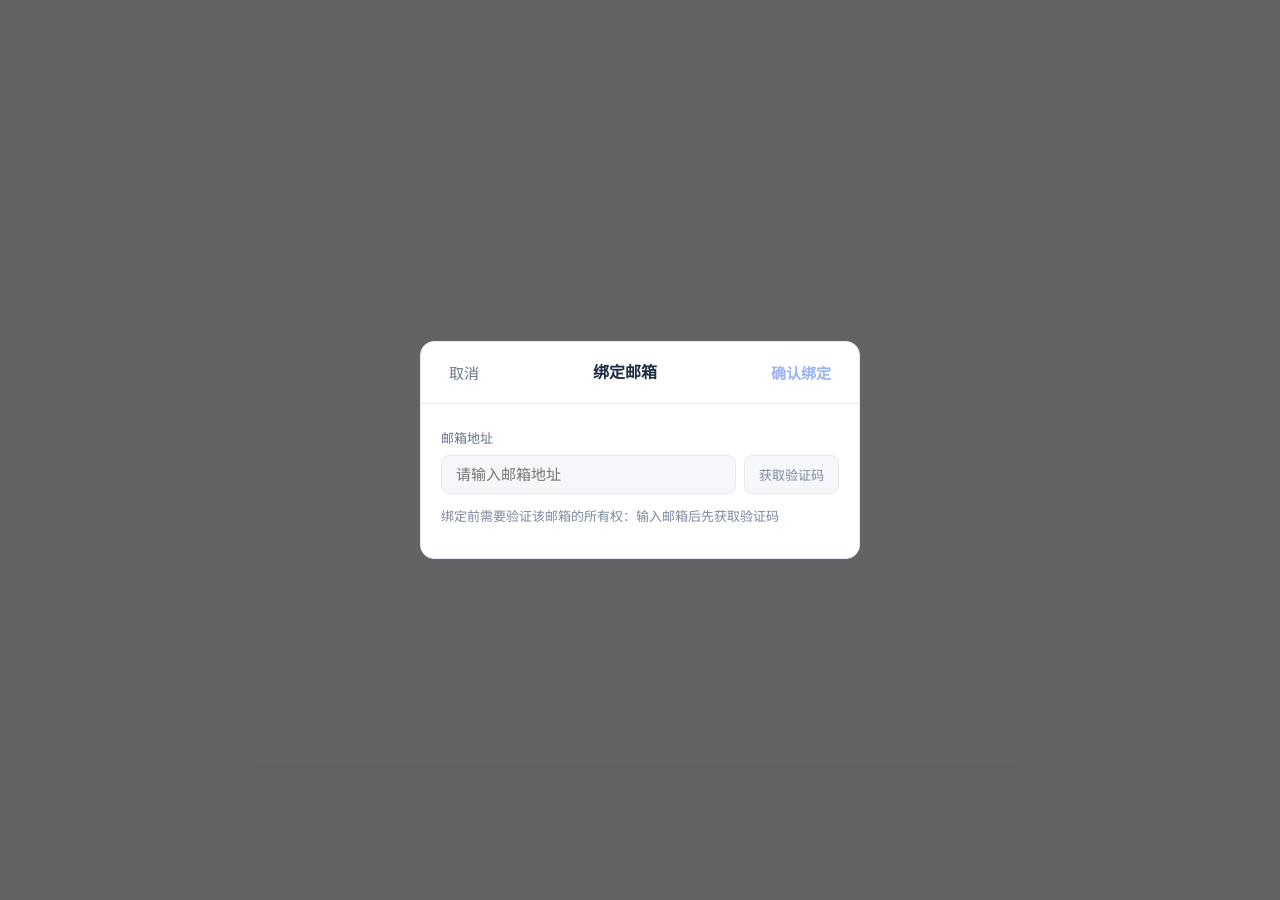
Test: BindEmailModal verified-binding flow › cooldown countdown disables resend and closing clears the timer
The width and height of the screenshot is (1280, 900).
Type "timer@example.test" into the field with placeholder "请输入邮箱地址" at (588, 474), box [441,454,736,494]
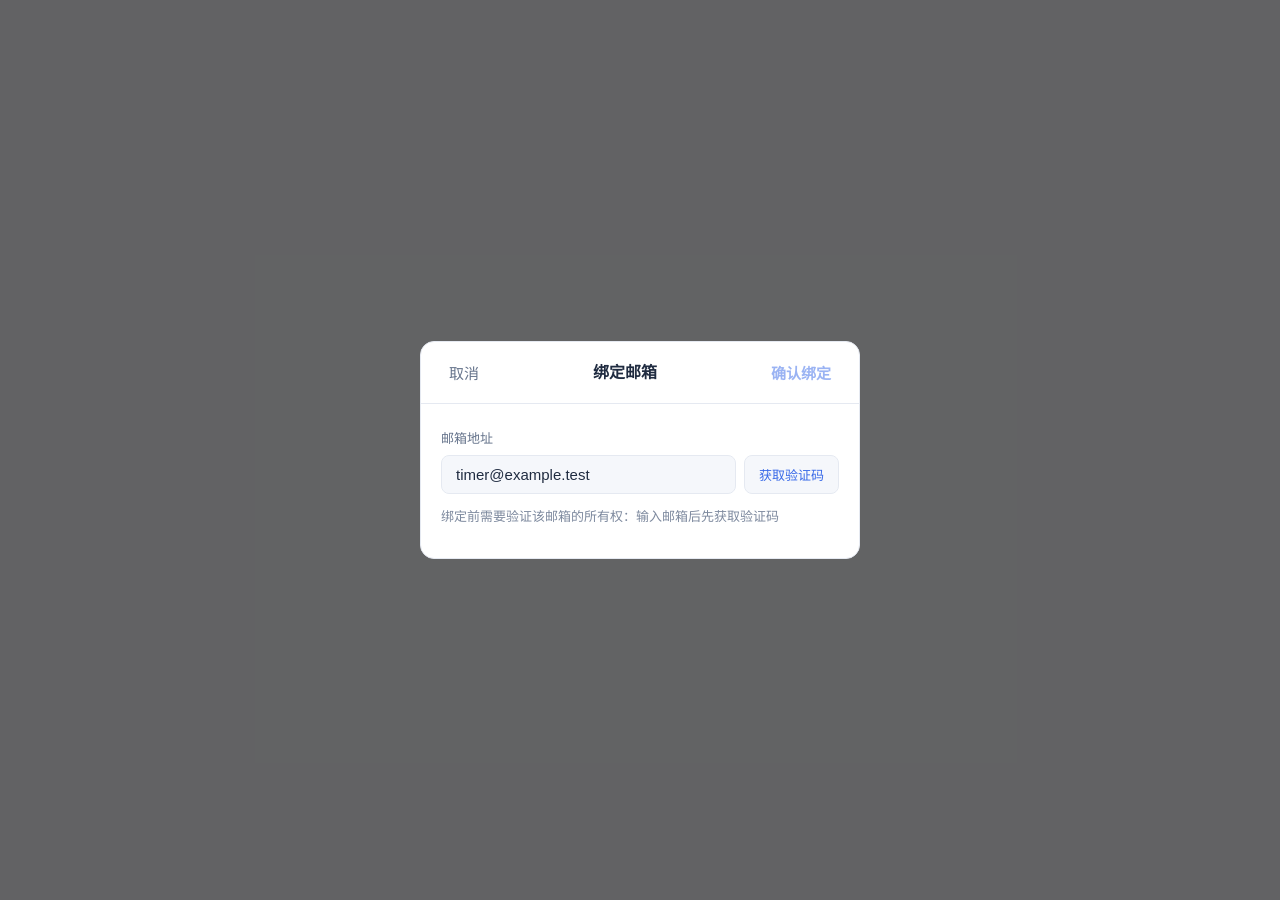
Click the button with test id "send-code" at (792, 474), box [744,454,839,494]
Wait 1000 ms
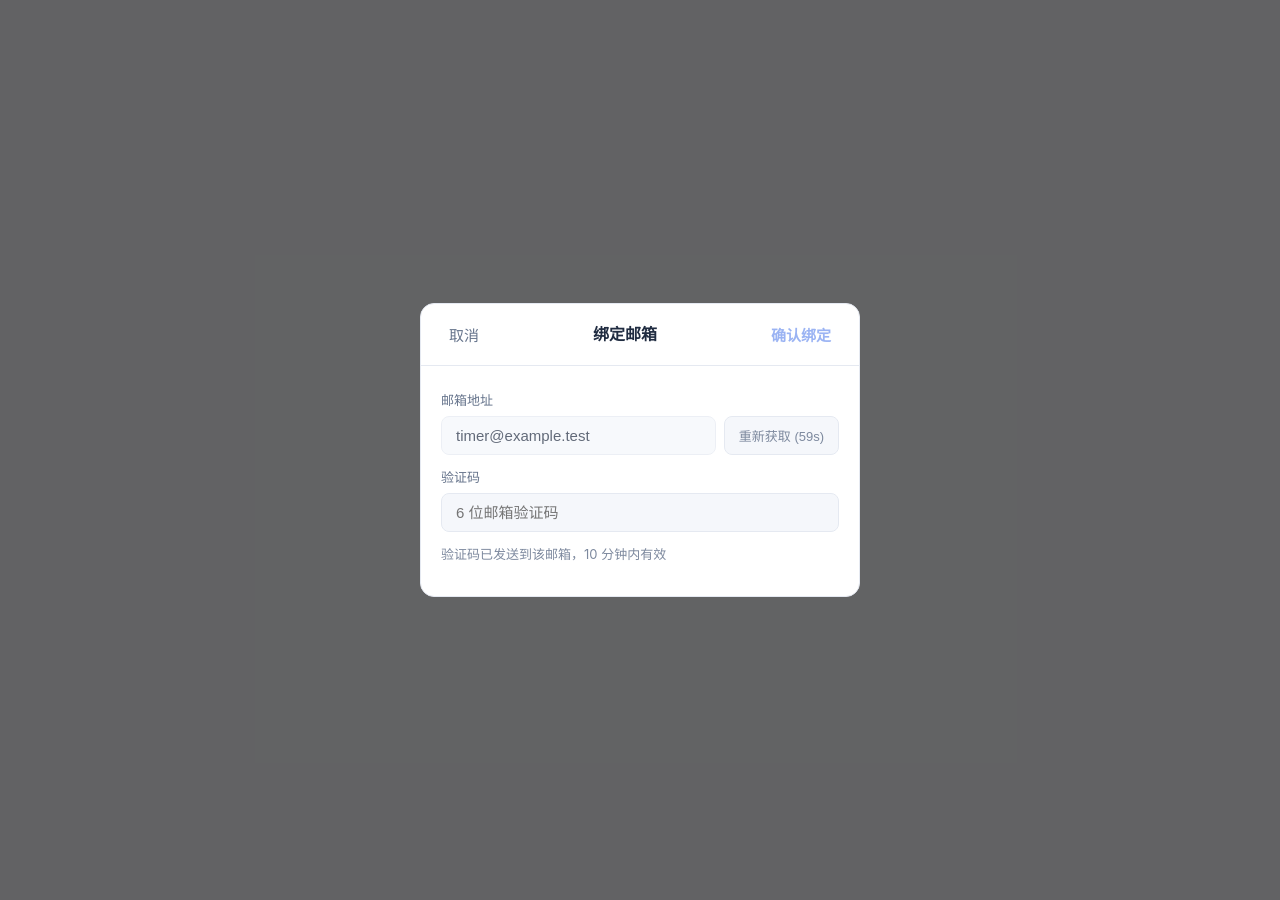
Expected: the button with test id "send-code" is disabled, [724,416,839,455]
Expected: the text "重新获取 (59s)" is shown, [724,416,839,455]
